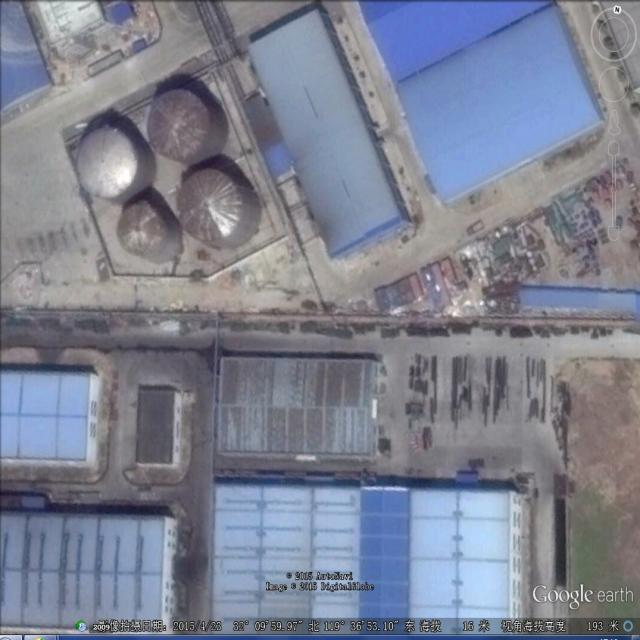oiltank: (176, 164, 266, 253), (71, 120, 159, 210), (146, 86, 231, 166), (116, 197, 185, 270)
